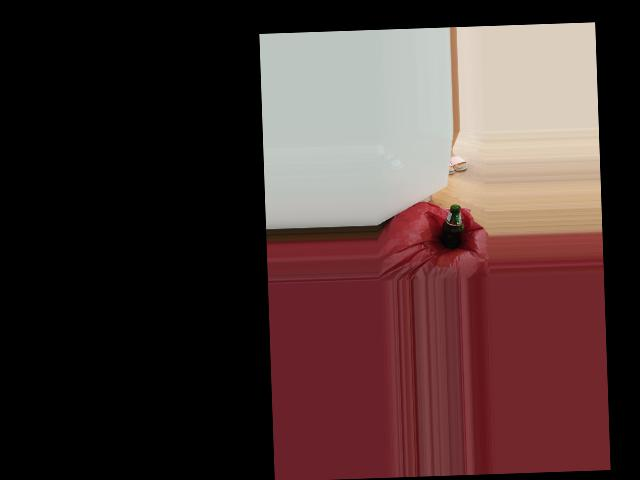beer: (439, 204, 464, 249)
